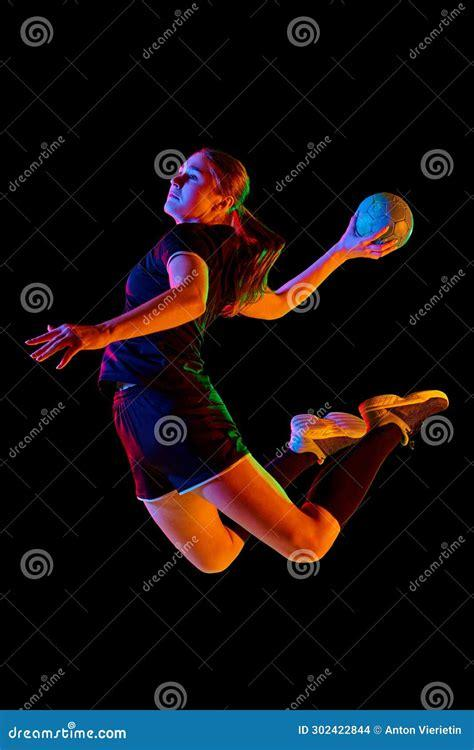ballon_handball: (352, 190, 416, 256)
